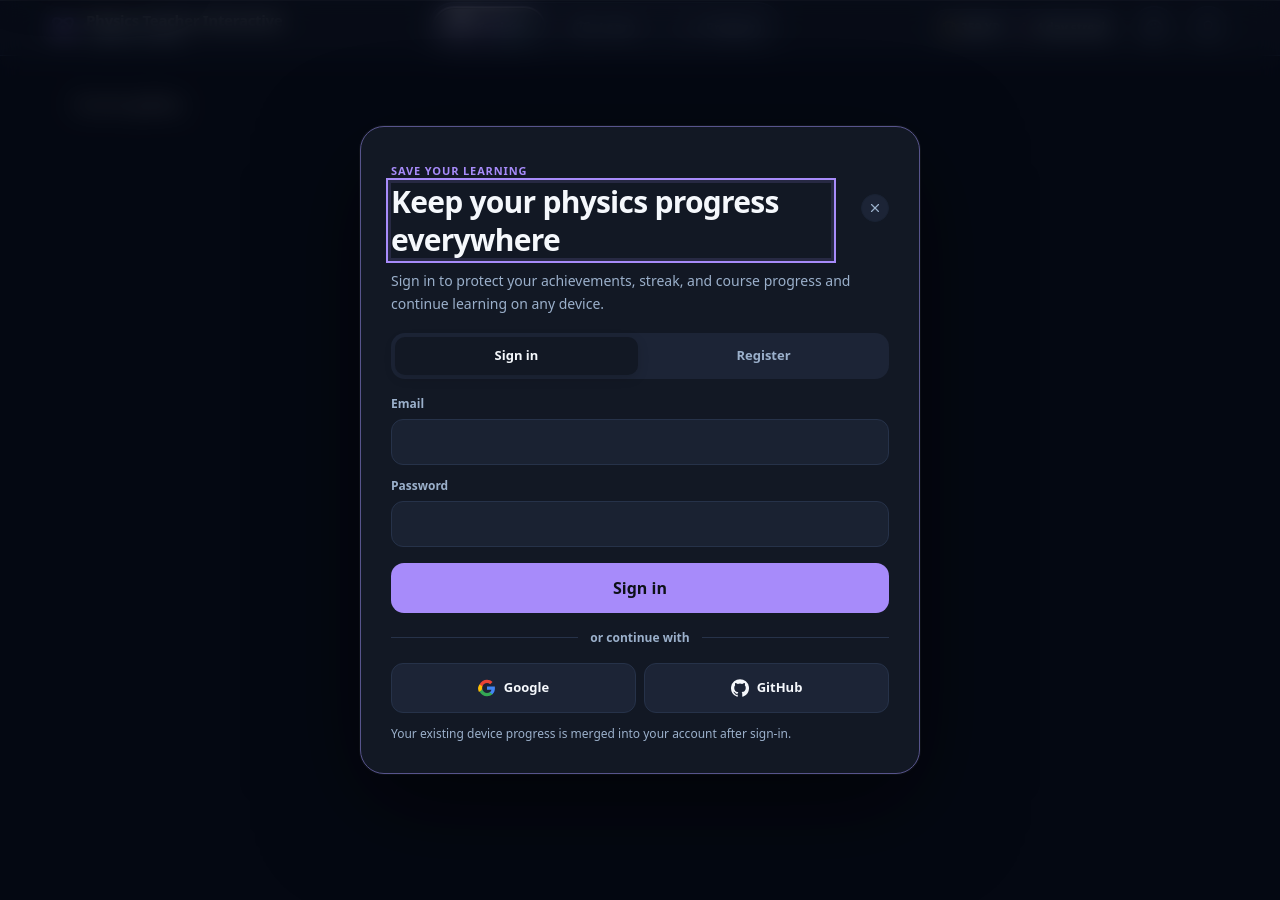
Scenario: AppShell › lets a visitor close the gate, explains local progress, and keeps avatar sign-in available
Click the button named "Continue without signing in".
click(875, 208)  # box x1=861 y1=194 x2=889 y2=222
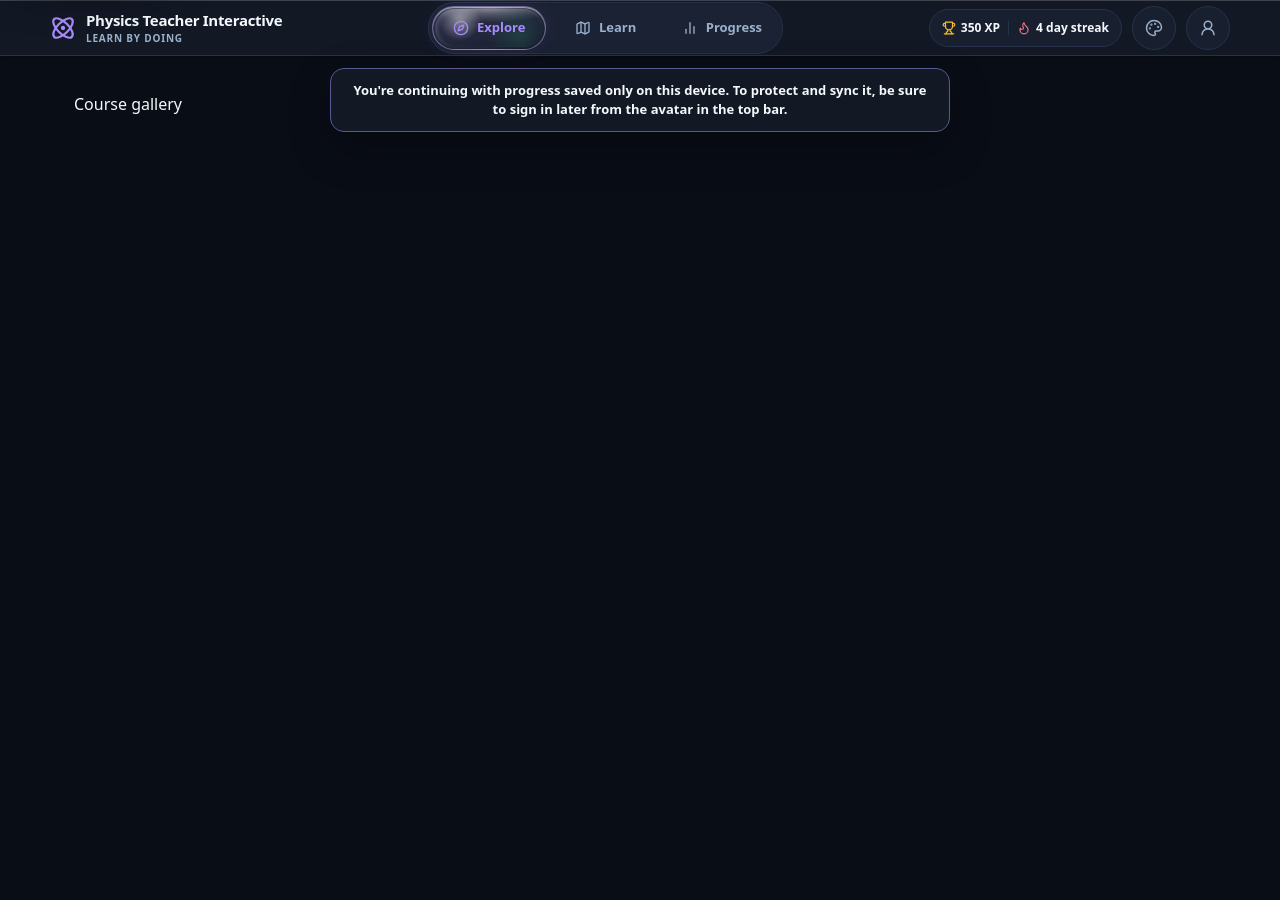
Result: the message shows "sign in later from the avatar" at x1=354 y1=81 x2=926 y2=118
Click the button named "Sign in or register".
click(1208, 28)  # box x1=1186 y1=6 x2=1230 y2=50
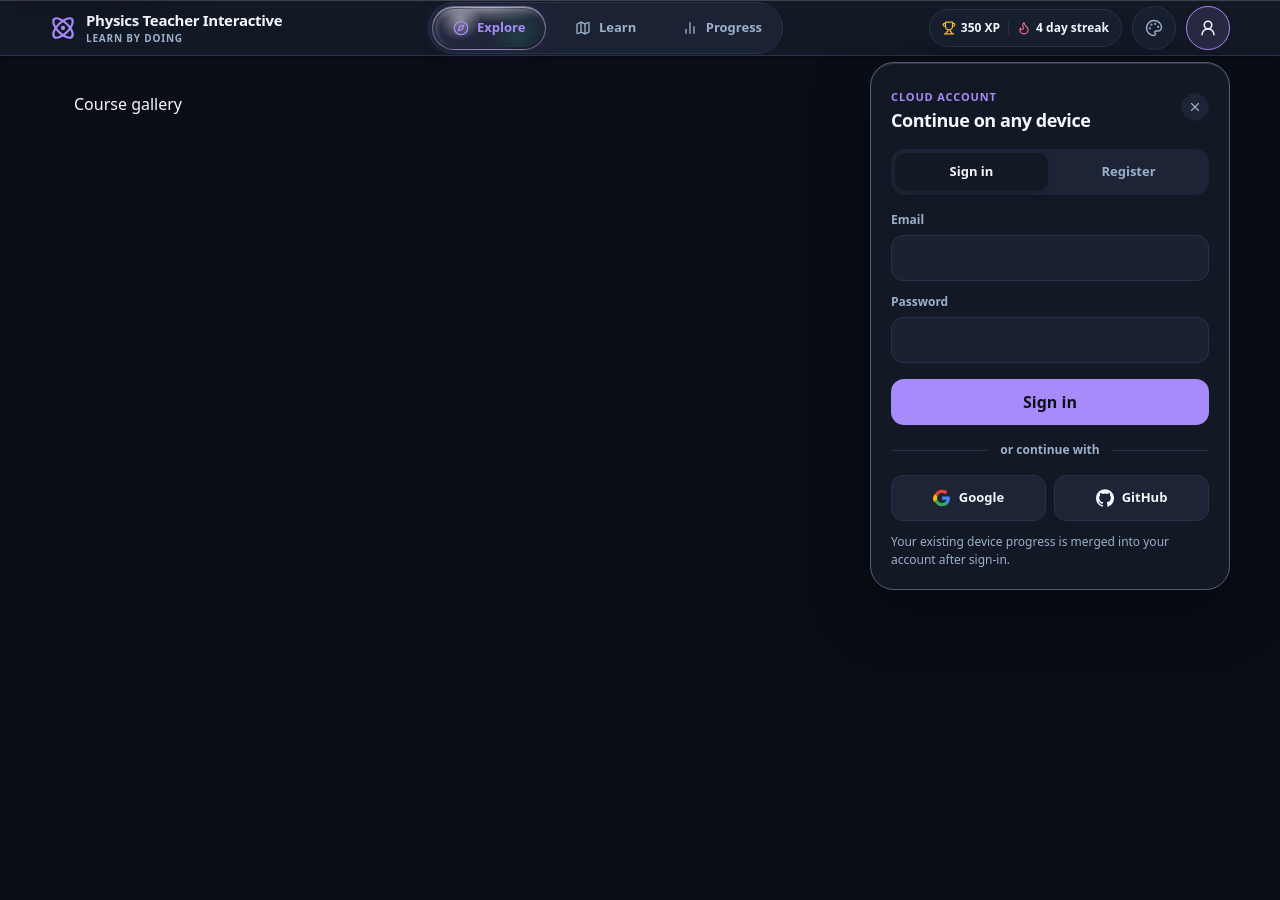
Result: the dialog named "Account and cloud sync" is shown at x1=870 y1=62 x2=1230 y2=590
